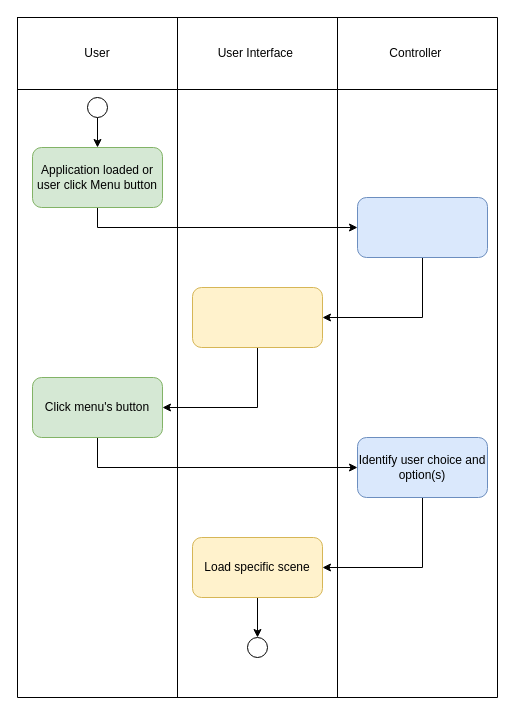
The diagram is 515 pixels wide and 715 high, and some of its shapes have lost their labels. Each missing label, with the box of its shape:
Check condition and load Menu: (356, 196, 488, 258)
Show menu interface: (192, 286, 322, 348)
